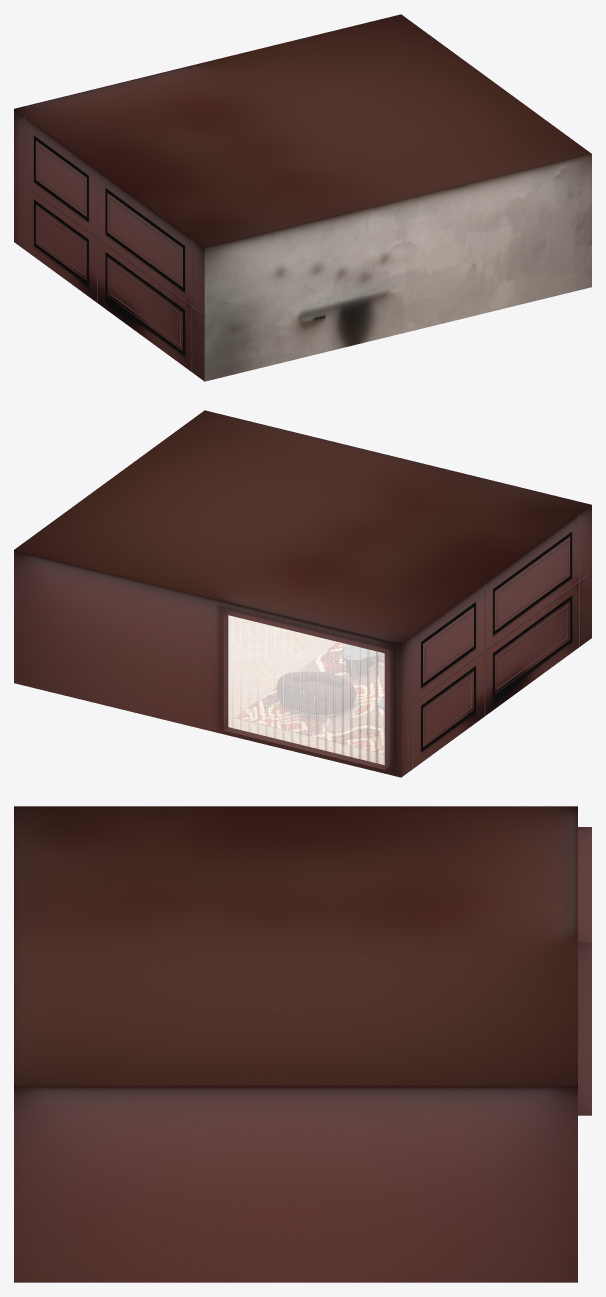
Rendered from newroom.glb.
3 views of the same model, one above another, from view 1: azimuth 30°, elevation 25°; view 2: azimuth 150°, elevation 25°; view 3: azimuth 270°, elevation 25° (orthographic). The views are drawn at different scales.
Visible parts, largest first — view 1: house, wall; view 2: house, curtain, floor, carpet, sofa, table; view 3: house.
Part boxes in pixels (box(x1,y1,x2,y2)): house: box(14, 14, 591, 381); wall: box(204, 154, 591, 381); house: box(14, 410, 591, 777); curtain: box(228, 615, 384, 765); floor: box(228, 616, 384, 764); carpet: box(235, 642, 384, 754); sofa: box(277, 672, 355, 716); table: box(342, 644, 384, 709); house: box(14, 806, 591, 1282).
Size of the model in its own units: 1217 by 401 by 1063.
Materials: 19 (19 with a texture image).
